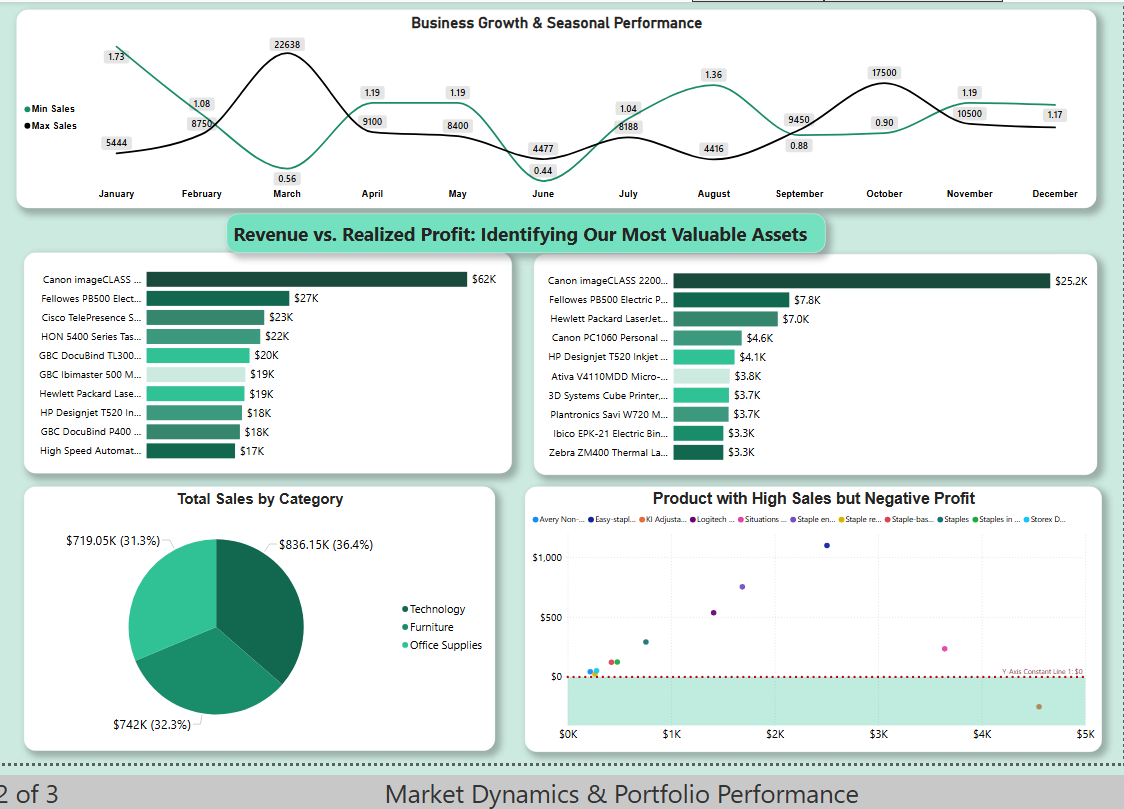

The dashboard page shown, as its layout file describes it:
{"tool":"powerbi","page":{"name":"Market Dynamics & Portfolio Performance","canvas":[1920,1300],"ordinal":1},"visuals":[{"type":"lineChart","title":"Business Growth & Seasonal Performance","fields":{"Category":["Superstore.Order_Date.Variation.Date Hierarchy.Month"],"Y":["Superstore.Min Sales"],"Y2":["Superstore.Max Sales"]},"box":[76.2,57.8,1844.9,339],"z":0},{"type":"clusteredBarChart","fields":{"Category":["Superstore.Product_Name"],"Y":["Sum(Superstore.Sales)"]},"box":[40.9,426.8,833.2,377.1],"z":1000},{"type":"pieChart","fields":{"Category":["Superstore.Category"],"Y":["Superstore.Total Sales"]},"box":[41.9,828.5,804.5,451.6],"z":3000},{"type":"scatterChart","title":"Product with High Sales but Negative Profit","fields":{"X":["Sum(Superstore.Sales)"],"Y":["Sum(Superstore.Profit)"],"Series":["Superstore.Product_Name"]},"box":[897.5,827.4,985.3,453.2],"z":4000},{"type":"clusteredBarChart","fields":{"Category":["Superstore.Product_Name"],"Y":["Sum(Superstore.Profit)"]},"box":[912.2,429.8,961.9,377.1],"z":4500},{"type":"textbox","box":[385.9,362.5,1023.3,67.2],"z":5000}]}

Visuals, with their boxes on the page's 1920x1300 design canvas (x1, y1, x2, y2). These are canvas units, not pixel positions in the 1124x809 screenshot, which may show the page scaled, cropped or inside an application window:
"Business Growth & Seasonal Performance" lineChart: pyautogui.locateOnScreen(76, 58, 1921, 397)
clusteredBarChart - Superstore.Product_Name x Sum(Superstore.Sales): pyautogui.locateOnScreen(41, 427, 874, 804)
pieChart - Superstore.Category x Superstore.Total Sales: pyautogui.locateOnScreen(42, 828, 846, 1280)
"Product with High Sales but Negative Profit" scatterChart: pyautogui.locateOnScreen(898, 827, 1883, 1281)
clusteredBarChart - Superstore.Product_Name x Sum(Superstore.Profit): pyautogui.locateOnScreen(912, 430, 1874, 807)
textbox: pyautogui.locateOnScreen(386, 362, 1409, 430)
